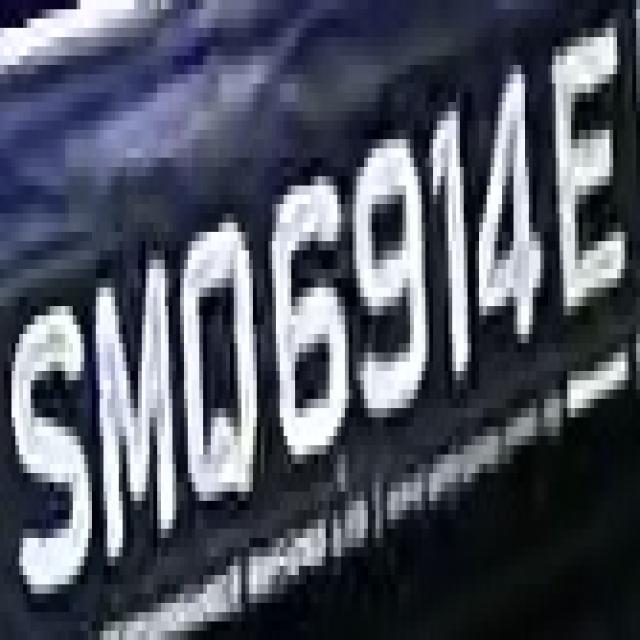1: (421, 93, 483, 399)
4: (471, 65, 548, 389)
6: (257, 158, 356, 519)
9: (353, 139, 433, 445)
E: (544, 9, 629, 325)
M: (96, 269, 180, 566)
Q: (172, 186, 268, 520)
S: (4, 278, 100, 640)
